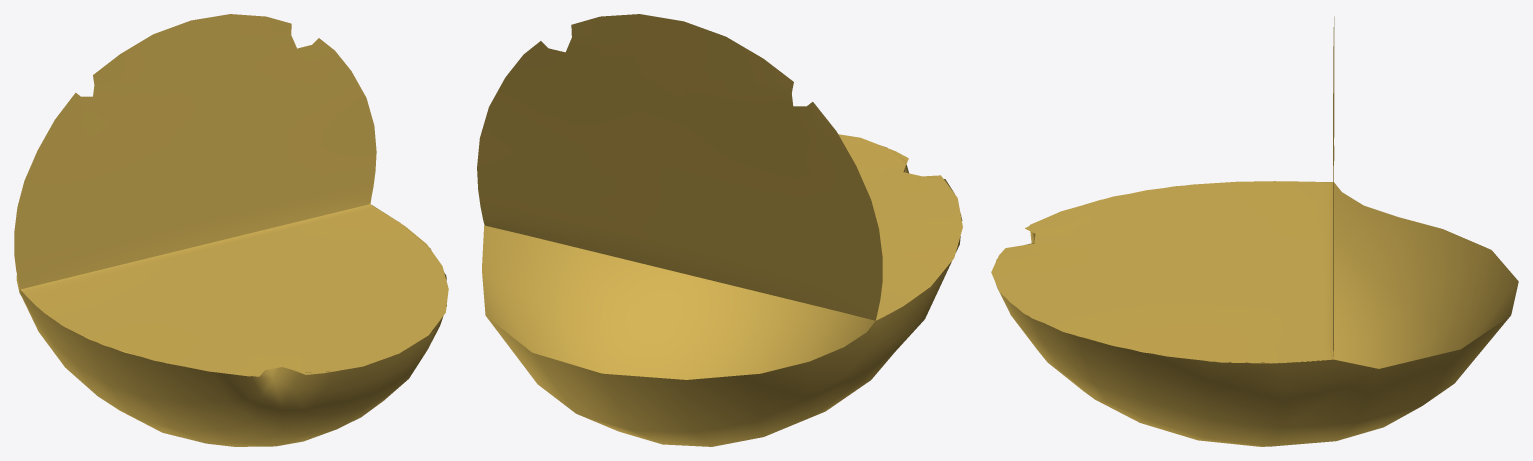
File: AnimalCell-Cytoplasm.fbx
The picture shows the model from 3 angles, left to right: view 1: azimuth 30°, elevation 25°; view 2: azimuth 150°, elevation 25°; view 3: azimuth 270°, elevation 25°; orthographic projection. The views are drawn at different scales.
Parts seen in each view (by area): view 1: polySurface412; view 2: polySurface412; view 3: polySurface412.
Part boxes in pixels (<box>): polySurface412: <box>14,14,448,446</box>; polySurface412: <box>477,14,962,446</box>; polySurface412: <box>991,16,1518,446</box>.
Size of the model in its own units: 13.35 by 13.28 by 16.18.
